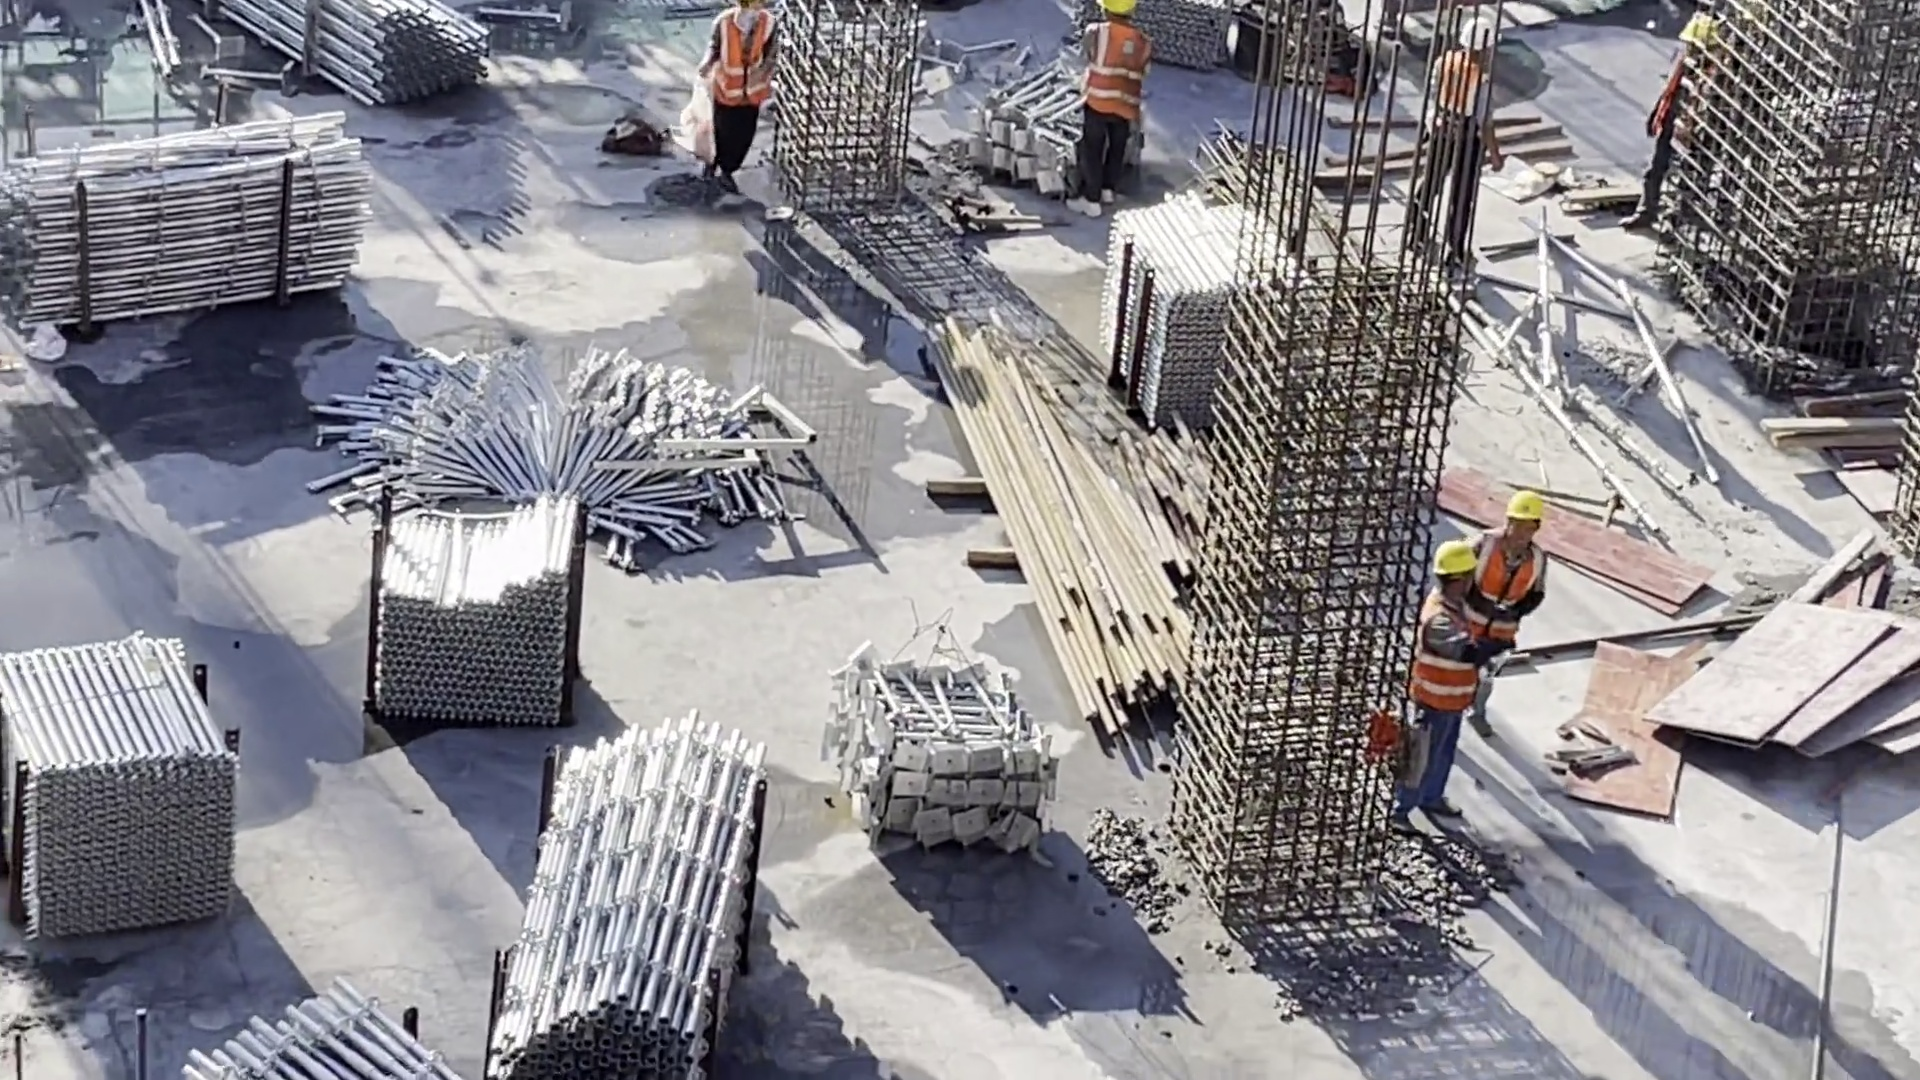helmet: (1433, 537, 1484, 583), (1464, 13, 1510, 60), (1675, 11, 1732, 49), (1508, 494, 1549, 532), (1106, 1, 1138, 26)
person: (1630, 4, 1726, 230), (694, 1, 784, 191), (1417, 539, 1475, 831), (1482, 486, 1555, 712), (1425, 19, 1491, 264), (1087, 1, 1143, 211)
vest: (1649, 47, 1727, 163), (1475, 530, 1549, 643), (718, 14, 780, 111), (1422, 598, 1476, 706), (1091, 19, 1141, 124), (1432, 55, 1492, 127)
